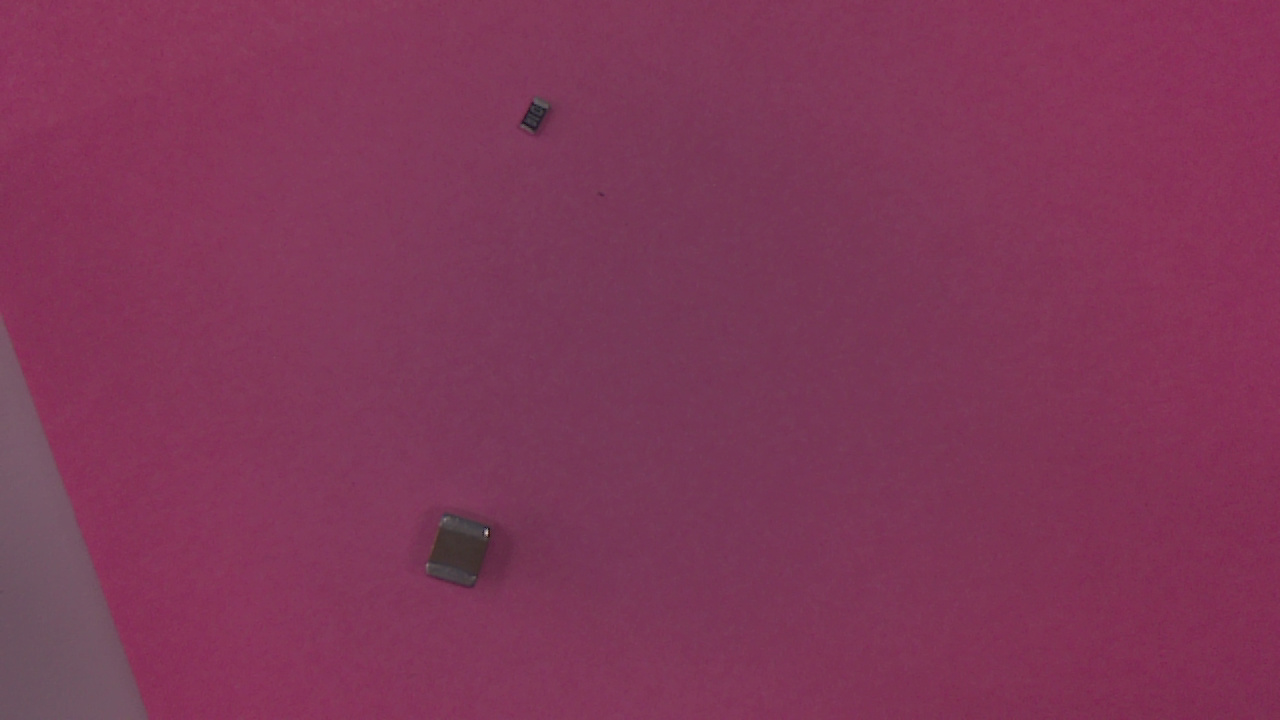Condensator: (426, 518, 501, 595)
Resistor: (518, 102, 562, 144)
